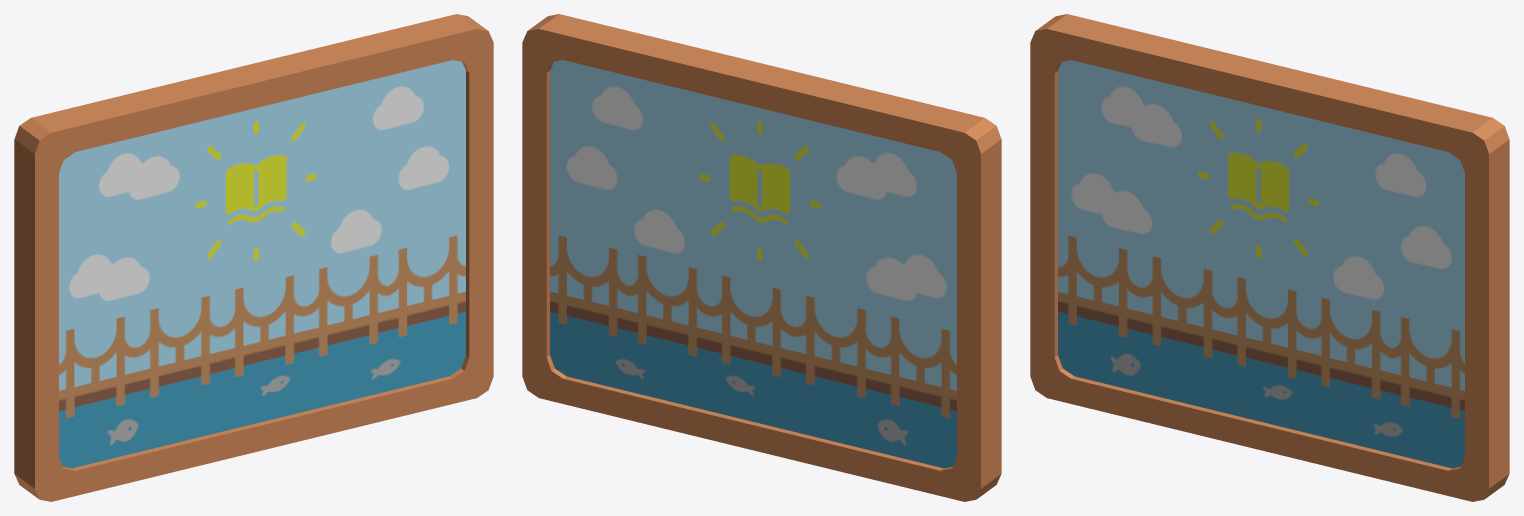
Rendered from Props_Poster_03.fbx.
3 views of the same model, side by side, from view 1: azimuth 30°, elevation 25°; view 2: azimuth 150°, elevation 25°; view 3: azimuth 330°, elevation 25° (orthographic).
Visible parts, largest first — view 1: Props_Poster_03; view 2: Props_Poster_03; view 3: Props_Poster_03.
Part boxes in pixels (x1,y1,x2,y2): Props_Poster_03: (14, 14, 493, 501); Props_Poster_03: (522, 14, 1001, 501); Props_Poster_03: (1030, 14, 1509, 501).
Bounding box in the file's own units: 130 × 100 × 10.
